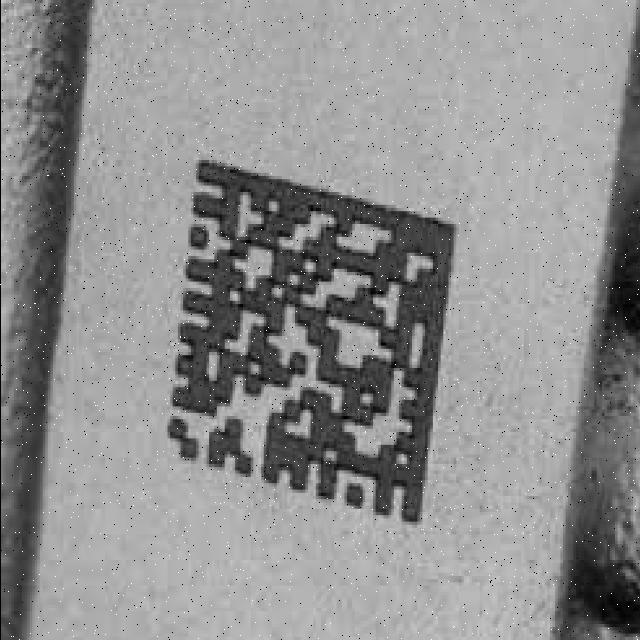datamatrix: (146, 134, 468, 541)
